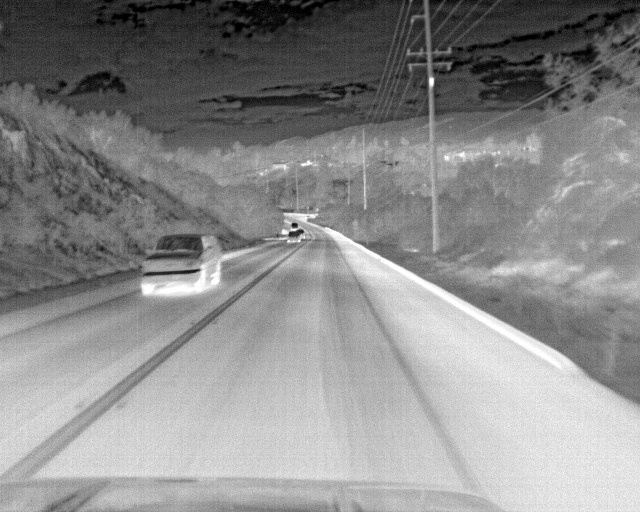vehicle: (140, 232, 224, 297), (288, 229, 303, 243)
